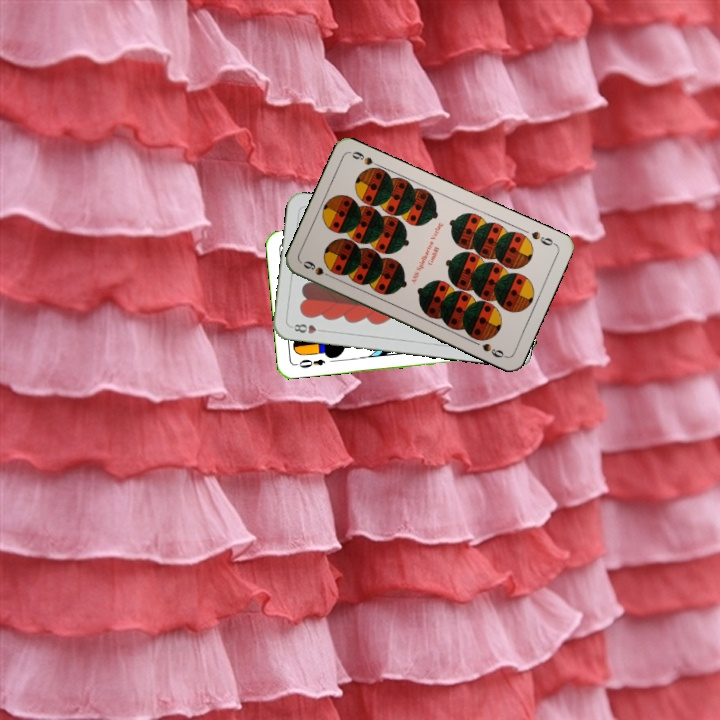EO: (292, 355, 328, 371)
H8: (287, 320, 328, 336)
S9: (299, 257, 337, 281), (527, 227, 558, 248)
